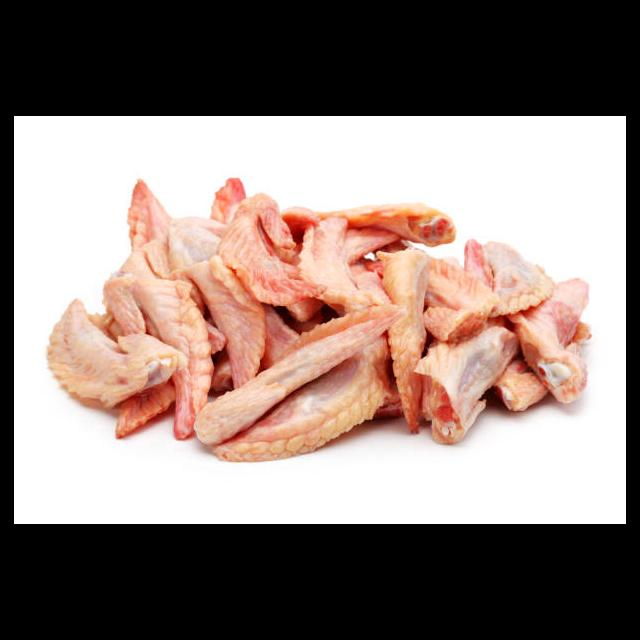chicken: (44, 172, 597, 465)
